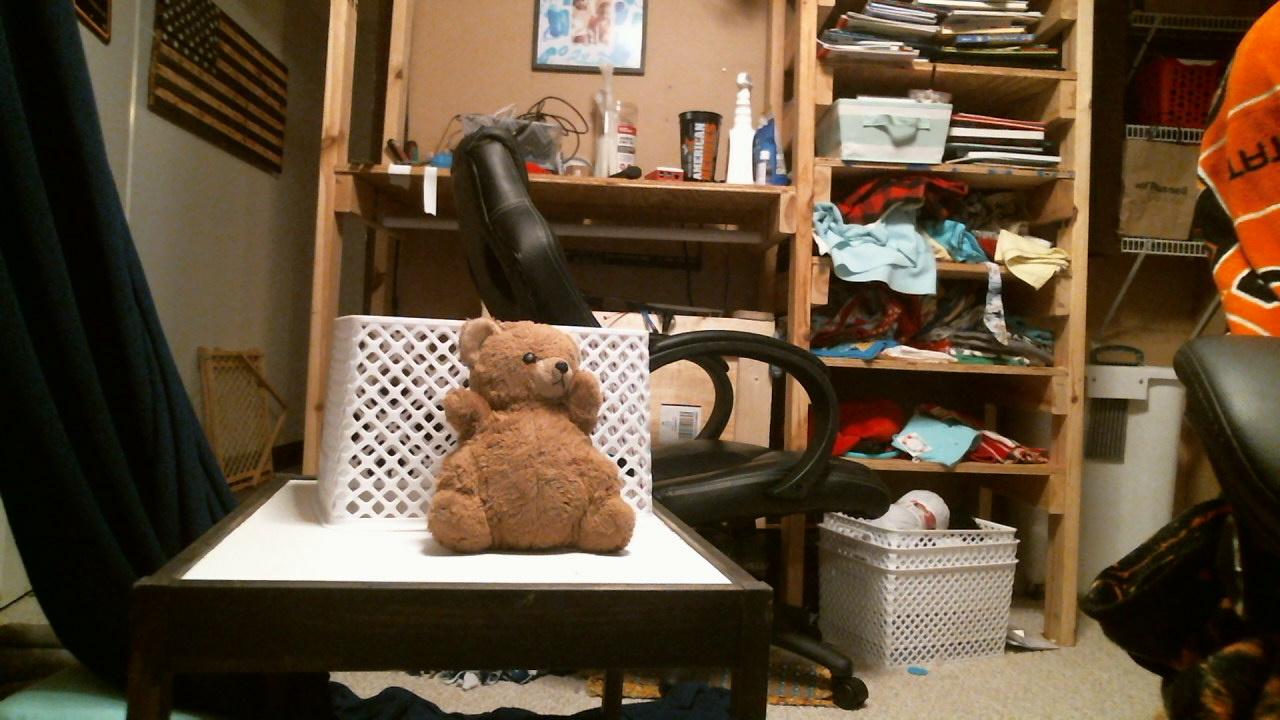Little_Mister_Bear: (521, 349, 583, 420)
